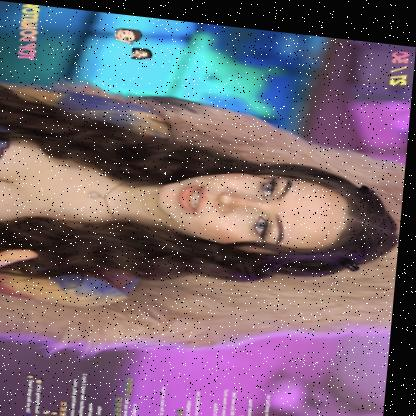streamer: (0, 81, 410, 331)
